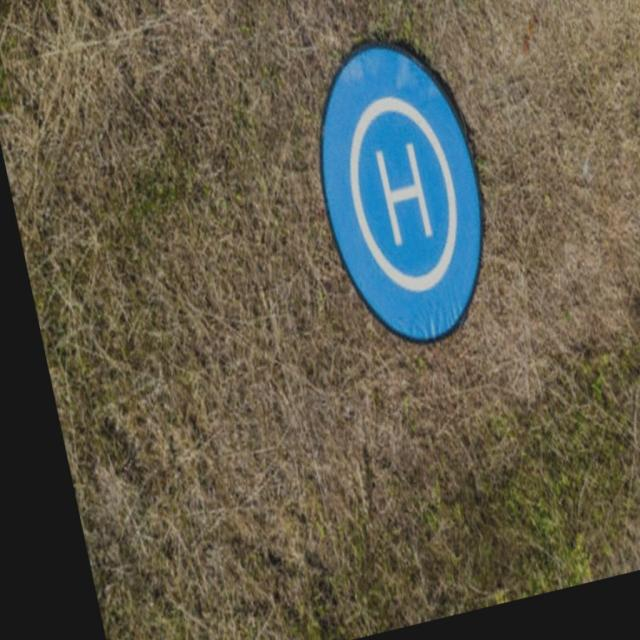helipad: (345, 91, 461, 293)
